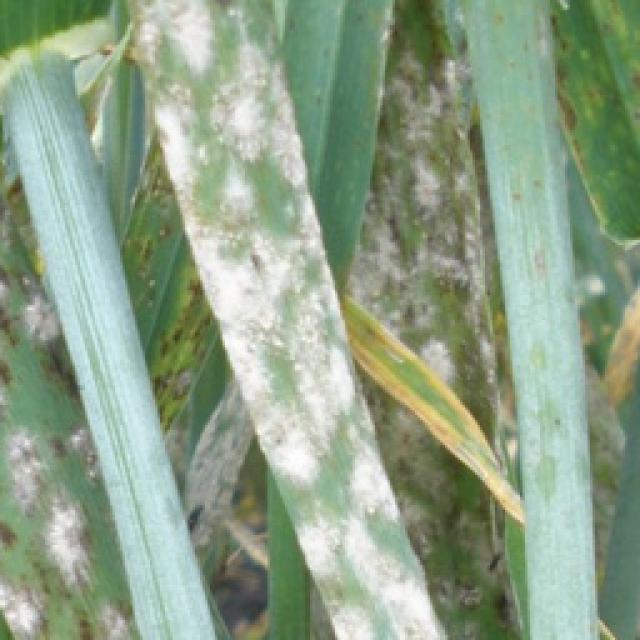Powdery Mildew: (116, 0, 541, 640)
